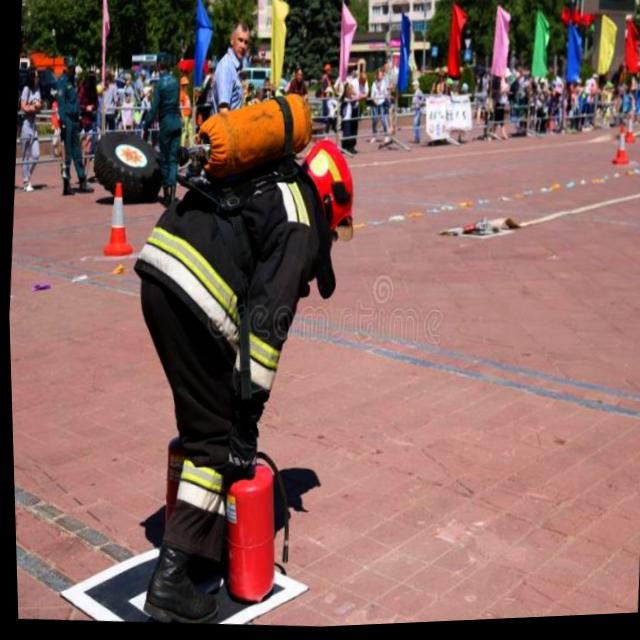FireExtinguisher: (207, 425, 302, 608), (145, 406, 219, 572)
